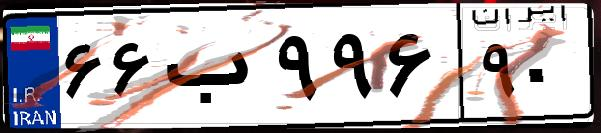0: (525, 38, 570, 115)
6: (385, 28, 445, 110), (57, 26, 110, 100), (110, 28, 158, 98)
9: (270, 28, 330, 110), (330, 28, 385, 110), (475, 38, 525, 113)
ب: (158, 20, 270, 120)
